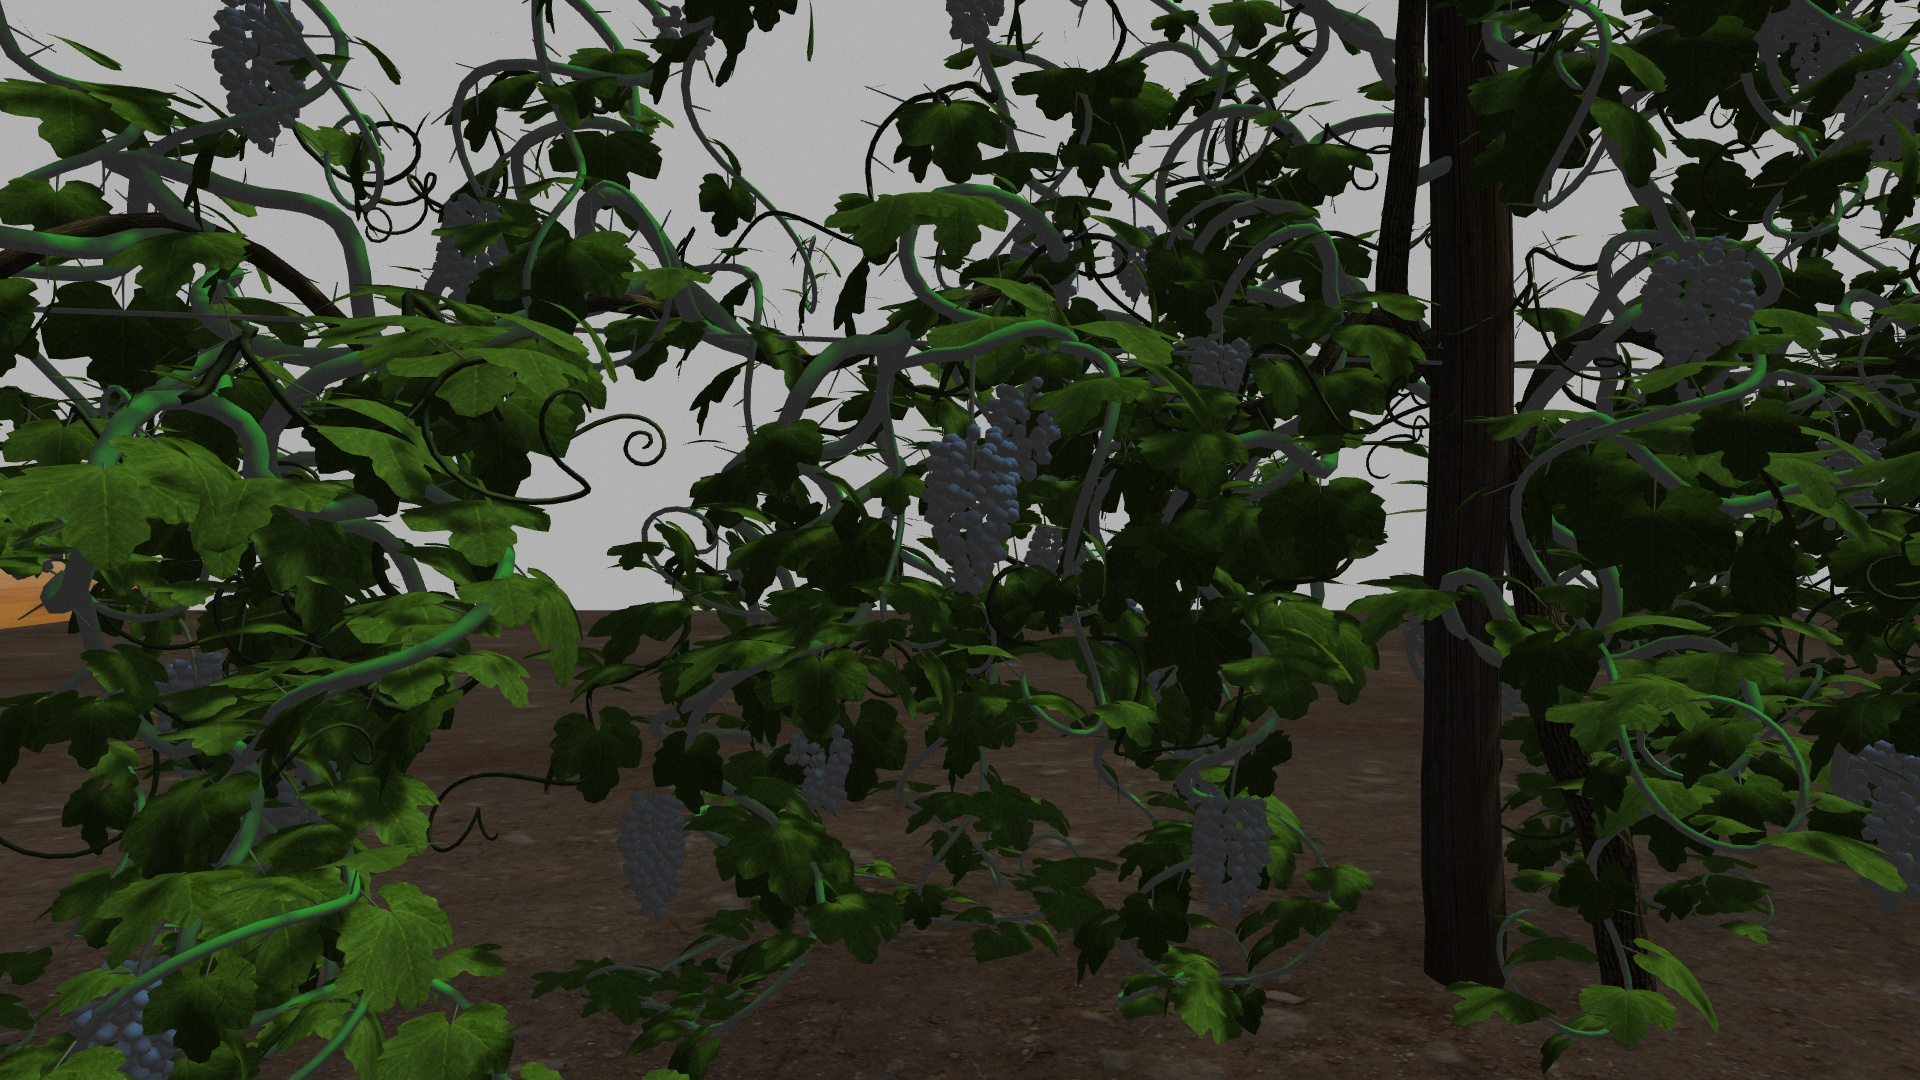grape: (924, 426, 1022, 601), (1640, 229, 1760, 368), (207, 8, 314, 153), (1185, 791, 1274, 934), (617, 786, 700, 923), (1847, 737, 1915, 893), (992, 378, 1065, 491), (782, 728, 858, 814), (1187, 334, 1255, 398)
